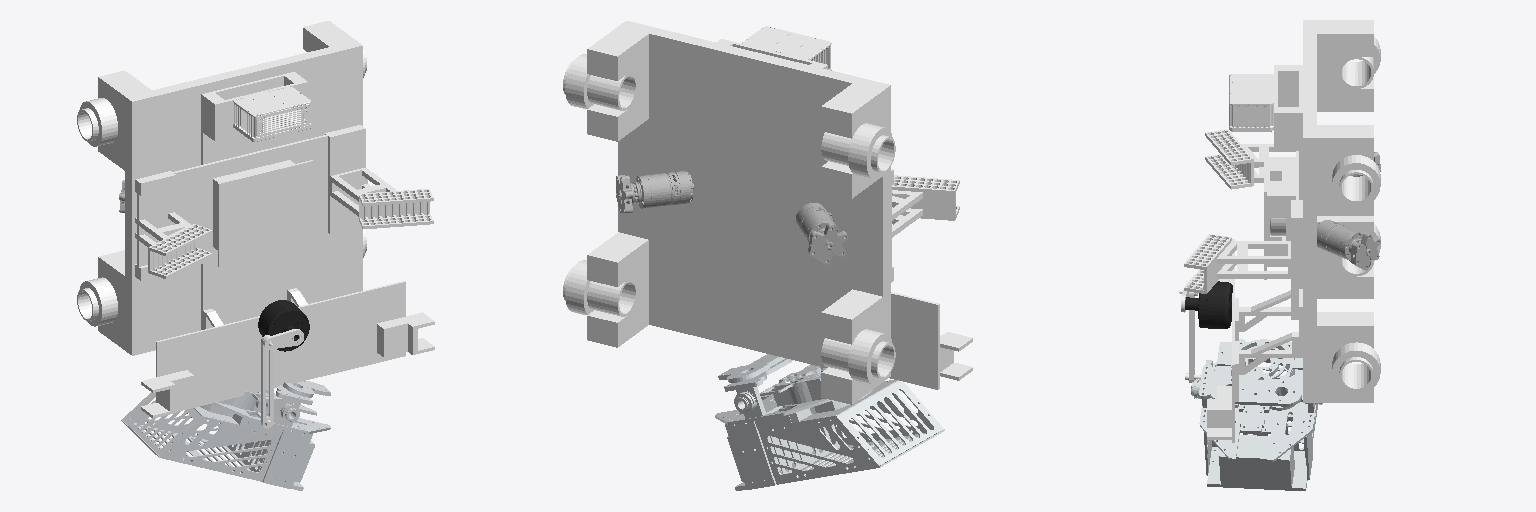
URDF robot description (车urdf(1)):
<?xml version="1.0" encoding="utf-8"?>
<!-- This URDF was automatically created by SolidWorks to URDF Exporter! Originally created by Stephen Brawner (brawner@gmail.com) 
     Commit Version: 1.6.0-4-g7f85cfe  Build Version: 1.6.7995.38578
     For more information, please see http://wiki.ros.org/sw_urdf_exporter -->
<robot
  name="车urdf(1)">
  <link
    name="base_link">
    <inertial>
      <origin
        xyz="-0.00287488699395588 0.0326708834958189 -0.0456599026195311"
        rpy="0 0 0" />
      <mass
        value="2.01382629493021" />
      <inertia
        ixx="0.00579585299795913"
        ixy="-2.43850358741284E-06"
        ixz="3.77402466798782E-05"
        iyy="0.00308984049120909"
        iyz="4.73869513985285E-05"
        izz="0.00675249777498061" />
    </inertial>
    <visual>
      <origin
        xyz="0 0 0"
        rpy="0 0 0" />
      <geometry>
        <mesh
          filename="package://车urdf(1)/meshes/base_link.STL" />
      </geometry>
      <material
        name="">
        <color
          rgba="1 1 1 1" />
      </material>
    </visual>
    <collision>
      <origin
        xyz="0 0 0"
        rpy="0 0 0" />
      <geometry>
        <mesh
          filename="package://车urdf(1)/meshes/base_link.STL" />
      </geometry>
    </collision>
  </link>
  <link
    name="w 0">
    <inertial>
      <origin
        xyz="0.0206456455717657 -0.0207540044863704 4.28962447514801E-05"
        rpy="0 0 0" />
      <mass
        value="0.36608832072495" />
      <inertia
        ixx="0.000204834370693005"
        ixy="-6.15124967644645E-05"
        ixz="-3.51293841178721E-07"
        iyy="0.00020492240812328"
        iyz="-4.42281599225408E-07"
        izz="0.000142435328497823" />
    </inertial>
    <visual>
      <origin
        xyz="0 0 0"
        rpy="0 0 0" />
      <geometry>
        <mesh
          filename="package://车urdf(1)/meshes/w 0.STL" />
      </geometry>
      <material
        name="">
        <color
          rgba="0.752941176470588 0.752941176470588 0.752941176470588 1" />
      </material>
    </visual>
    <collision>
      <origin
        xyz="0 0 0"
        rpy="0 0 0" />
      <geometry>
        <mesh
          filename="package://车urdf(1)/meshes/w 0.STL" />
      </geometry>
    </collision>
  </link>
  <joint
    name="wojoint"
    type="continuous">
    <origin
      xyz="0.17206 0.17206 -0.0036458"
      rpy="3.1416 0 3.1416" />
    <parent
      link="base_link" />
    <child
      link="w 0" />
    <axis
      xyz="-0.70711 0.70711 0" />
  </joint>
  <link
    name="w 1">
    <inertial>
      <origin
        xyz="-0.020754004478491 -0.0206456455694293 4.28962399794224E-05"
        rpy="0 0 0" />
      <mass
        value="0.366088320727298" />
      <inertia
        ixx="0.000204922408141684"
        ixy="6.15124967798582E-05"
        ixz="-4.42281604177855E-07"
        iyy="0.000204834370659289"
        iyz="3.51293816635325E-07"
        izz="0.00014243532851014" />
    </inertial>
    <visual>
      <origin
        xyz="0 0 0"
        rpy="0 0 0" />
      <geometry>
        <mesh
          filename="package://车urdf(1)/meshes/w 1.STL" />
      </geometry>
      <material
        name="">
        <color
          rgba="0.752941176470588 0.752941176470588 0.752941176470588 1" />
      </material>
    </visual>
    <collision>
      <origin
        xyz="0 0 0"
        rpy="0 0 0" />
      <geometry>
        <mesh
          filename="package://车urdf(1)/meshes/w 1.STL" />
      </geometry>
    </collision>
  </link>
  <joint
    name="w1joint"
    type="continuous">
    <origin
      xyz="0.17206 -0.17206 -0.0036458"
      rpy="3.1416 0 0" />
    <parent
      link="base_link" />
    <child
      link="w 1" />
    <axis
      xyz="0.70711 0.70711 0" />
  </joint>
  <link
    name="w 2">
    <inertial>
      <origin
        xyz="0.0206456454876345 -0.0207540043832627 4.28962341050068E-05"
        rpy="0 0 0" />
      <mass
        value="0.366088320169113" />
      <inertia
        ixx="0.000204834370519221"
        ixy="-6.1512496775434E-05"
        ixz="-3.5129382710272E-07"
        iyy="0.000204922408078621"
        iyz="-4.42281646501001E-07"
        izz="0.000142435328366272" />
    </inertial>
    <visual>
      <origin
        xyz="0 0 0"
        rpy="0 0 0" />
      <geometry>
        <mesh
          filename="package://车urdf(1)/meshes/w 2.STL" />
      </geometry>
      <material
        name="">
        <color
          rgba="0.752941176470588 0.752941176470588 0.752941176470588 1" />
      </material>
    </visual>
    <collision>
      <origin
        xyz="0 0 0"
        rpy="0 0 0" />
      <geometry>
        <mesh
          filename="package://车urdf(1)/meshes/w 2.STL" />
      </geometry>
    </collision>
  </link>
  <joint
    name="w2joint"
    type="continuous">
    <origin
      xyz="-0.17206 -0.17206 -0.0036458"
      rpy="3.1416 0 0" />
    <parent
      link="base_link" />
    <child
      link="w 2" />
    <axis
      xyz="-0.70711 0.70711 0" />
  </joint>
  <link
    name="w 3">
    <inertial>
      <origin
        xyz="-0.0207540044491885 -0.0206456455502998 4.28962343937064E-05"
        rpy="0 0 0" />
      <mass
        value="0.366088320566327" />
      <inertia
        ixx="0.000204922408147887"
        ixy="6.15124967696277E-05"
        ixz="-4.42281633118667E-07"
        iyy="0.0002048343706123"
        iyz="3.51293812968161E-07"
        izz="0.000142435328455473" />
    </inertial>
    <visual>
      <origin
        xyz="0 0 0"
        rpy="0 0 0" />
      <geometry>
        <mesh
          filename="package://车urdf(1)/meshes/w 3.STL" />
      </geometry>
      <material
        name="">
        <color
          rgba="0.752941176470588 0.752941176470588 0.752941176470588 1" />
      </material>
    </visual>
    <collision>
      <origin
        xyz="0 0 0"
        rpy="0 0 0" />
      <geometry>
        <mesh
          filename="package://车urdf(1)/meshes/w 3.STL" />
      </geometry>
    </collision>
  </link>
  <joint
    name="w3joint"
    type="continuous">
    <origin
      xyz="-0.17206 0.17206 -0.0036458"
      rpy="3.1416 0 3.1416" />
    <parent
      link="base_link" />
    <child
      link="w 3" />
    <axis
      xyz="0.70711 0.70711 0" />
  </joint>
  <link
    name="yaw">
    <inertial>
      <origin
        xyz="-0.000104829761398917 -0.000589227103042586 -0.140842550671345"
        rpy="0 0 0" />
      <mass
        value="0.883658426613258" />
      <inertia
        ixx="0.00213024726017061"
        ixy="-5.73528912951601E-05"
        ixz="2.42952454253991E-06"
        iyy="0.00206248069839824"
        iyz="-2.22795485506688E-05"
        izz="0.00270809171358488" />
    </inertial>
    <visual>
      <origin
        xyz="0 0 0"
        rpy="0 0 0" />
      <geometry>
        <mesh
          filename="package://车urdf(1)/meshes/yaw.STL" />
      </geometry>
      <material
        name="">
        <color
          rgba="1 1 1 1" />
      </material>
    </visual>
    <collision>
      <origin
        xyz="0 0 0"
        rpy="0 0 0" />
      <geometry>
        <mesh
          filename="package://车urdf(1)/meshes/yaw.STL" />
      </geometry>
    </collision>
  </link>
  <joint
    name="yawjoint"
    type="continuous">
    <origin
      xyz="0 0 0"
      rpy="0 0 0" />
    <parent
      link="base_link" />
    <child
      link="yaw" />
    <axis
      xyz="0 0 1" />
  </joint>
  <link
    name="6020ph">
    <inertial>
      <origin
        xyz="0.000149923407371078 -0.0594954214803141 0.131079721956733"
        rpy="0 0 0" />
      <mass
        value="0.202753353111405" />
      <inertia
        ixx="7.05518989865931E-05"
        ixy="4.13980200765987E-07"
        ixz="5.09337178224181E-07"
        iyy="0.000105949366714192"
        iyz="2.53202874010532E-07"
        izz="6.9955503617746E-05" />
    </inertial>
    <visual>
      <origin
        xyz="0 0 0"
        rpy="0 0 0" />
      <geometry>
        <mesh
          filename="package://车urdf(1)/meshes/6020ph.STL" />
      </geometry>
      <material
        name="">
        <color
          rgba="0.2 0.2 0.2 1" />
      </material>
    </visual>
    <collision>
      <origin
        xyz="0 0 0"
        rpy="0 0 0" />
      <geometry>
        <mesh
          filename="package://车urdf(1)/meshes/6020ph.STL" />
      </geometry>
    </collision>
  </link>
  <joint
    name="j0"
    type="revolute">
    <origin
      xyz="0 0 -0.291"
      rpy="0 0 -0.11442" />
    <parent
      link="base_link" />
    <child
      link="6020ph" />
    <axis
      xyz="0 -1 0" />
    <limit
      lower="0"
      upper="0"
      effort="0"
      velocity="0" />
  </joint>
  <link
    name="j1">
    <inertial>
      <origin
        xyz="-0.0224736840795325 -0.104819232702008 0.130083538014049"
        rpy="0 0 0" />
      <mass
        value="0.00832338785477166" />
      <inertia
        ixx="3.66389436167438E-07"
        ixy="-3.86491869409277E-20"
        ixz="-6.68555998045919E-08"
        iyy="2.22748343163581E-06"
        iyz="5.54109392691755E-22"
        izz="2.0031109551508E-06" />
    </inertial>
    <visual>
      <origin
        xyz="0 0 0"
        rpy="0 0 0" />
      <geometry>
        <mesh
          filename="package://车urdf(1)/meshes/j1.STL" />
      </geometry>
      <material
        name="">
        <color
          rgba="1 1 1 1" />
      </material>
    </visual>
    <collision>
      <origin
        xyz="0 0 0"
        rpy="0 0 0" />
      <geometry>
        <mesh
          filename="package://车urdf(1)/meshes/j1.STL" />
      </geometry>
    </collision>
  </link>
  <joint
    name="j1"
    type="revolute">
    <origin
      xyz="0 0 0"
      rpy="0 0 0" />
    <parent
      link="6020ph" />
    <child
      link="j1" />
    <axis
      xyz="0 -1 0" />
    <limit
      lower="0"
      upper="0"
      effort="0"
      velocity="0" />
  </joint>
  <link
    name="j2">
    <inertial>
      <origin
        xyz="-0.0419651591023542 -0.0977714009506881 0.0531855724194253"
        rpy="0 0 0" />
      <mass
        value="0.0122847021612473" />
      <inertia
        ixx="1.9922960735686E-05"
        ixy="-2.5410988417629E-21"
        ixz="-9.52409426267414E-12"
        iyy="2.00501719241709E-05"
        iyz="1.60040577894707E-19"
        izz="6.72583783018631E-07" />
    </inertial>
    <visual>
      <origin
        xyz="0 0 0"
        rpy="0 0 0" />
      <geometry>
        <mesh
          filename="package://车urdf(1)/meshes/j2.STL" />
      </geometry>
      <material
        name="">
        <color
          rgba="1 1 1 1" />
      </material>
    </visual>
    <collision>
      <origin
        xyz="0 0 0"
        rpy="0 0 0" />
      <geometry>
        <mesh
          filename="package://车urdf(1)/meshes/j2.STL" />
      </geometry>
    </collision>
  </link>
  <joint
    name="j2"
    type="fixed">
    <origin
      xyz="0 0 0"
      rpy="0 0 0" />
    <parent
      link="j1" />
    <child
      link="j2" />
    <axis
      xyz="0 0 0" />
  </joint>
  <link
    name="j3">
    <inertial>
      <origin
        xyz="-0.012212955233052 -0.000694524989414164 -0.0526186404604567"
        rpy="0 0 0" />
      <mass
        value="0.761286398284459" />
      <inertia
        ixx="0.00108381958957482"
        ixy="1.49557502577951E-06"
        ixz="0.000175732585068393"
        iyy="0.00079369610947869"
        iyz="-6.51207718021207E-07"
        izz="0.00144943266014822" />
    </inertial>
    <visual>
      <origin
        xyz="0 0 0"
        rpy="0 0 0" />
      <geometry>
        <mesh
          filename="package://车urdf(1)/meshes/j3.STL" />
      </geometry>
      <material
        name="">
        <color
          rgba="0.898039215686275 0.917647058823529 0.929411764705882 1" />
      </material>
    </visual>
    <collision>
      <origin
        xyz="0 0 0"
        rpy="0 0 0" />
      <geometry>
        <mesh
          filename="package://车urdf(1)/meshes/j3.STL" />
      </geometry>
    </collision>
  </link>
  <joint
    name="j3"
    type="revolute">
    <origin
      xyz="0 0 0"
      rpy="0 0 0" />
    <parent
      link="j2" />
    <child
      link="j3" />
    <axis
      xyz="0 1 0" />
    <limit
      lower="0"
      upper="0"
      effort="0"
      velocity="0" />
  </joint>
</robot>

--- Facts derived from the render (not from the file) ---
Views: 3 orthographic renders of the robot side by side, from view 1: azimuth 30°, elevation 25°; view 2: azimuth 150°, elevation 25°; view 3: azimuth 270°, elevation 25°.
Robot: 车urdf(1) — 10 links, 9 joints (3 revolute, 5 continuous, 1 fixed); root link base_link; default pose: every joint at zero.
Visible links, largest first — view 1: base_link, j3, 6020ph, j2, j1; view 2: base_link, j3, w 0, w 3; view 3: base_link, j3, w 0, 6020ph.
Link boxes in pixels (box(x1,y1,x2,y2)): base_link: box(77, 21, 434, 418); j3: box(121, 381, 330, 490); 6020ph: box(258, 300, 309, 351); j2: box(257, 335, 273, 428); j1: box(263, 329, 303, 349); base_link: box(563, 21, 972, 404); j3: box(715, 354, 944, 490); w 0: box(616, 171, 693, 212); w 3: box(796, 203, 848, 264); base_link: box(1184, 20, 1380, 442); j3: box(1191, 339, 1322, 490); w 0: box(1317, 220, 1380, 270); 6020ph: box(1185, 281, 1232, 328).
Bounding box of the posed robot: 0.476 × 0.2834 × 0.6232 m (x, y, z).
7 mesh visuals loaded from 10 distinct referenced files (7 binary STL); not drawn: 3 (reference not matched to a file when rendering).
